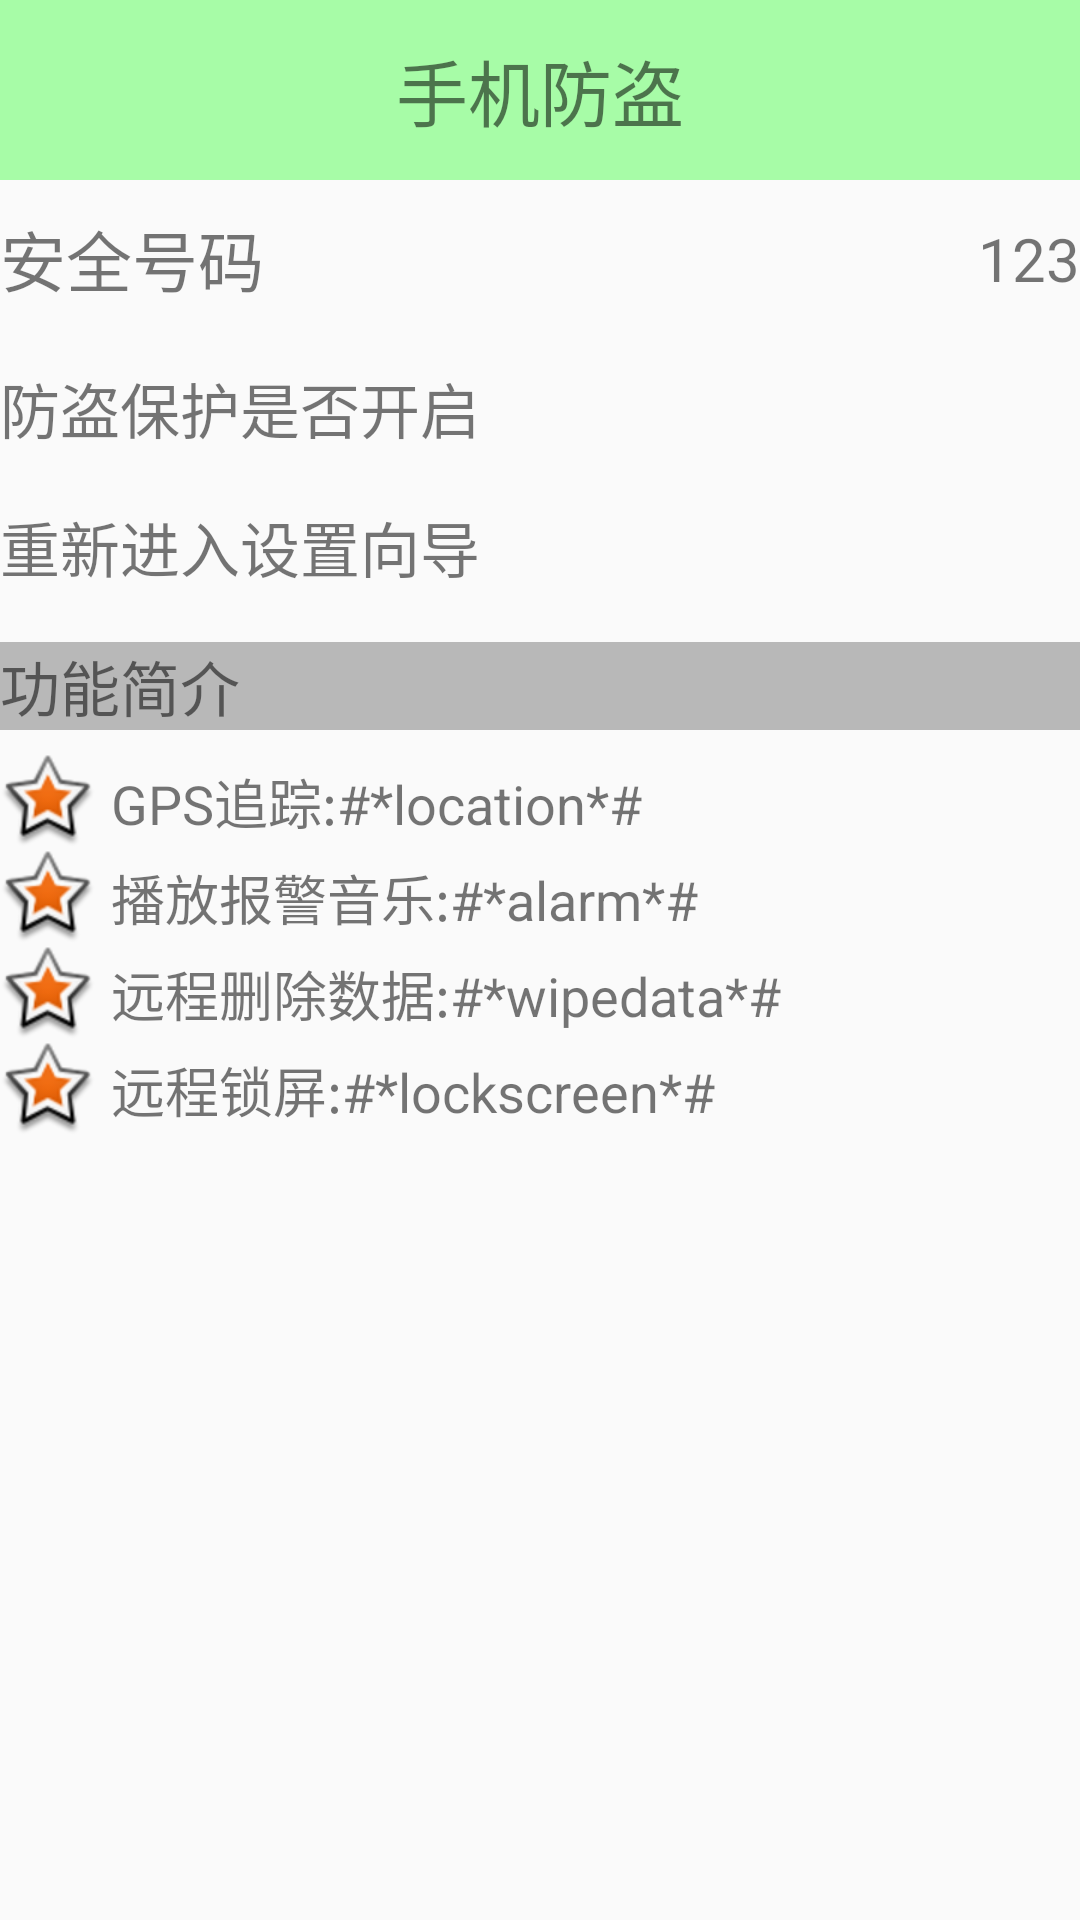

Icons on this 1080x1920 Android screen, each with the point to tap as (x,y):
star on: (48,798), (48,894), (48,990), (48,1086)
